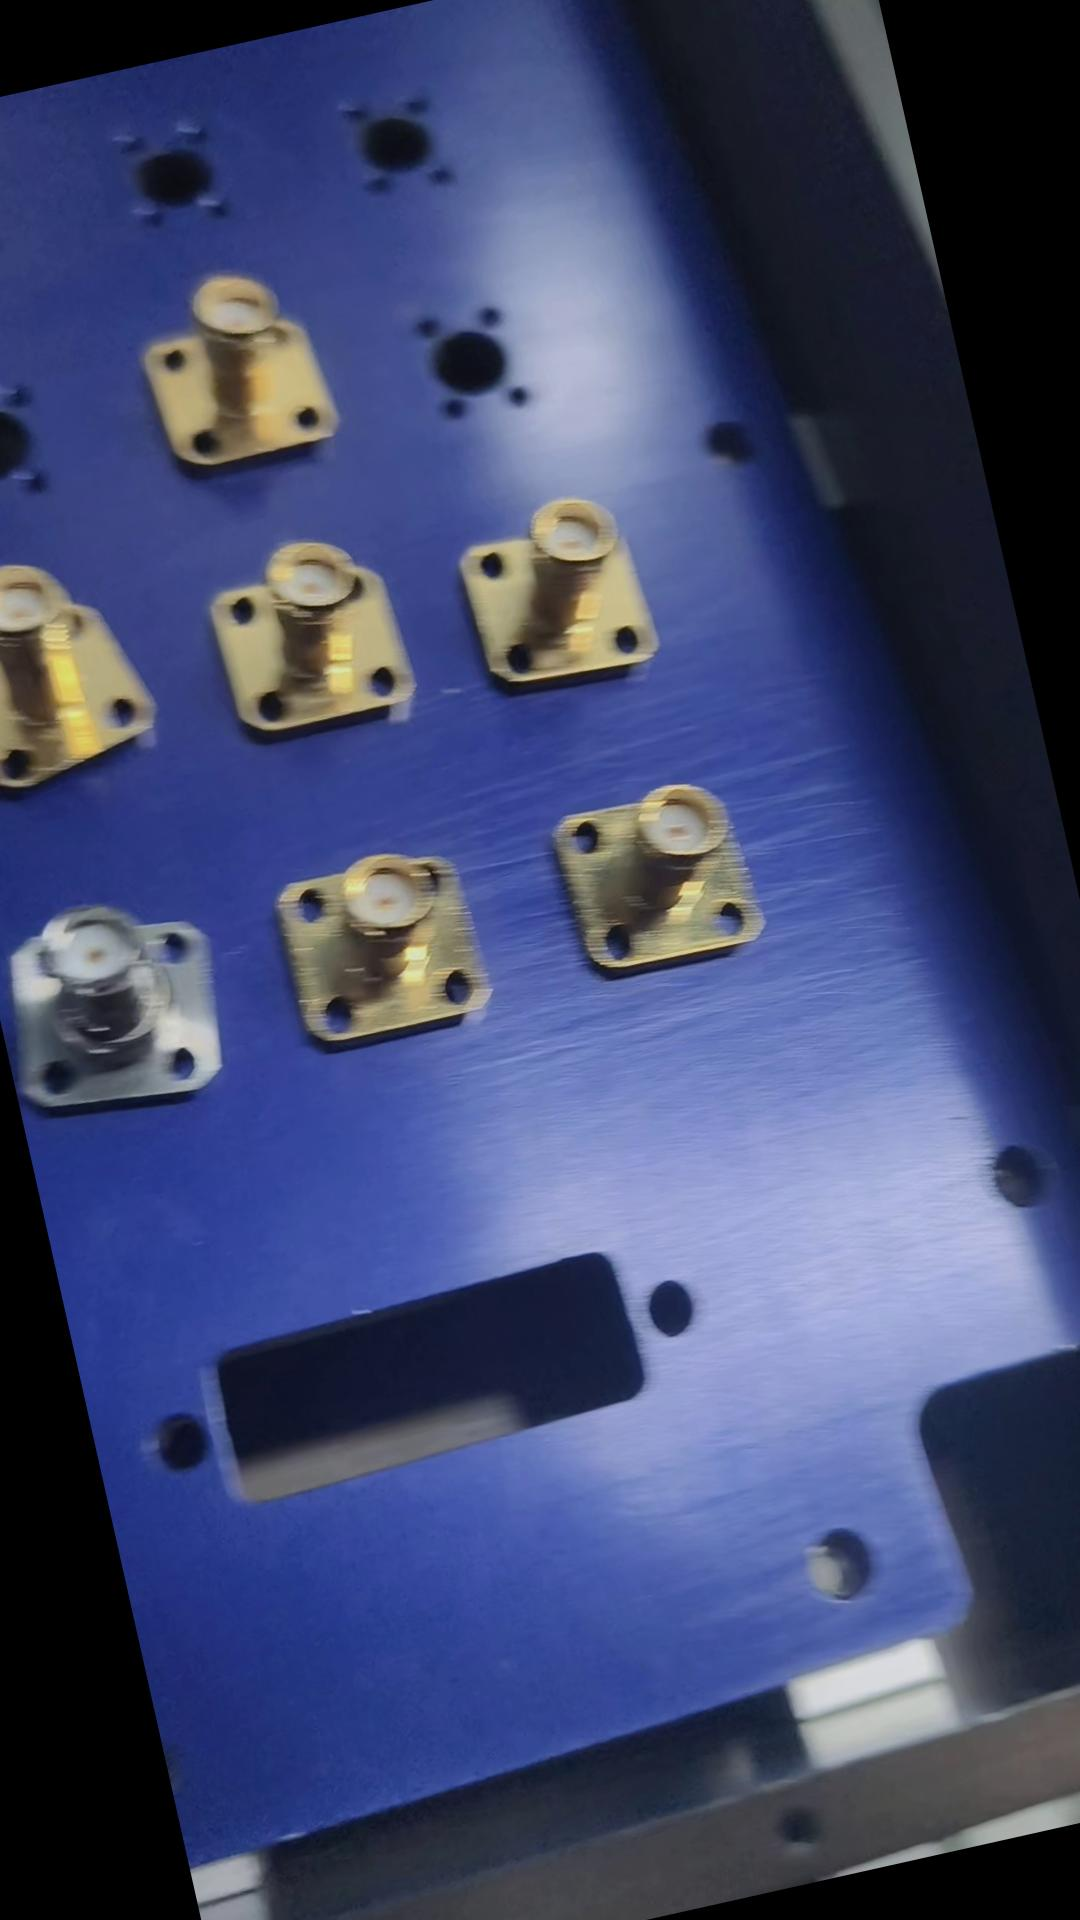SMA: (258, 833, 501, 1064), (193, 517, 425, 753), (112, 256, 338, 491), (541, 771, 774, 993), (444, 483, 673, 702)
